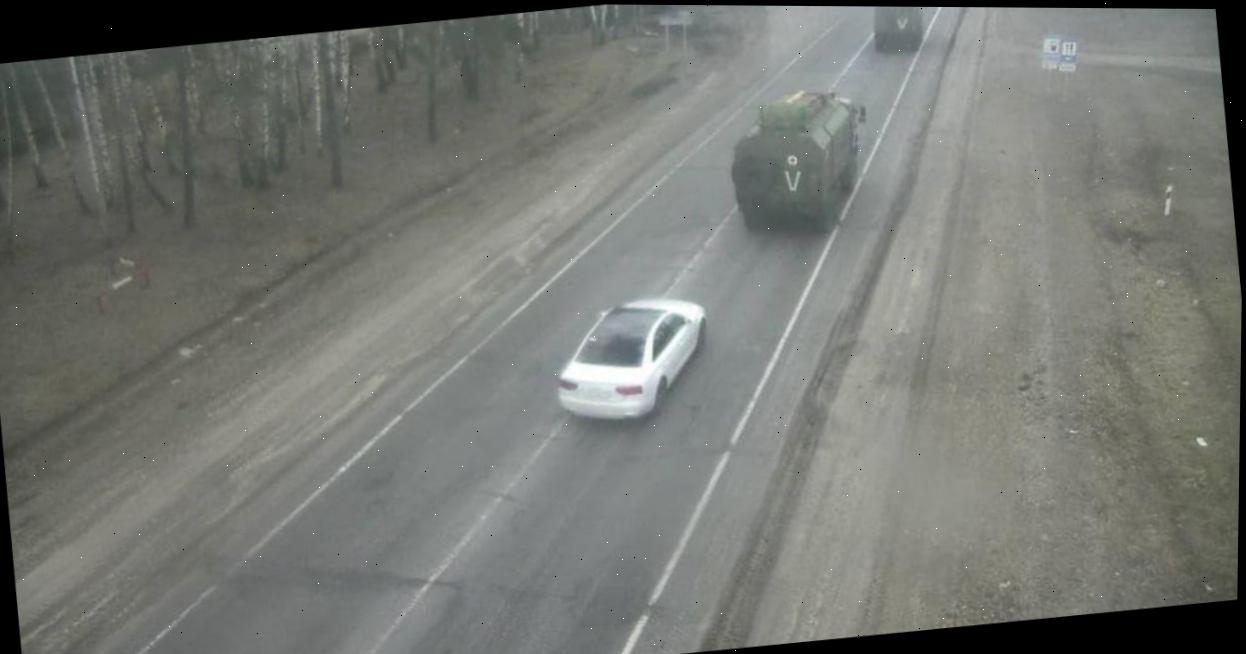car: (552, 287, 714, 434)
truck: (718, 79, 879, 235), (861, 6, 939, 60)
